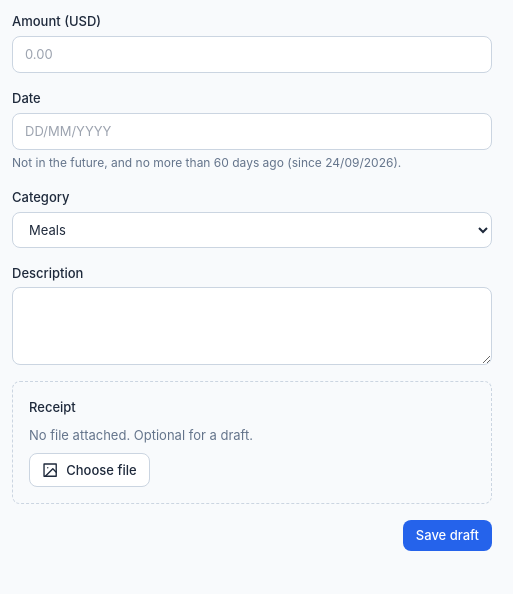
Test: ExpenseForm › does not save with an empty date (AC14)
Type "5" into the field labelled "Amount (USD)" at (252, 54), box top-left (12, 36), bottom-right (492, 73)
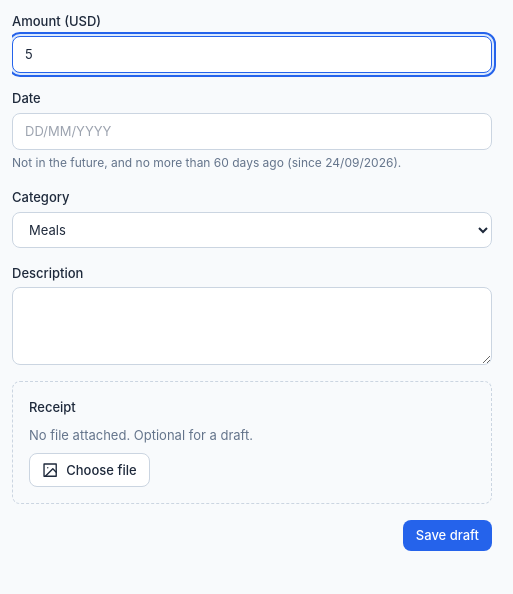
Click the button "Save draft" at (447, 536), box top-left (403, 520), bottom-right (492, 551)
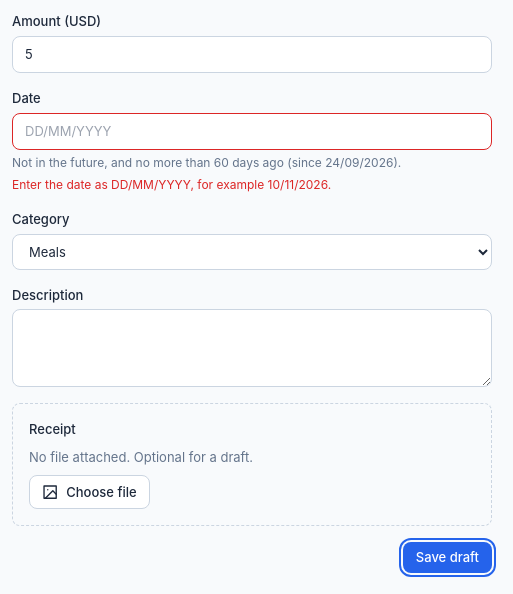
expect the message "Enter the date as DD/MM/YYYY, for example 10/11/2026." is shown: met, box top-left (12, 177), bottom-right (331, 192)
